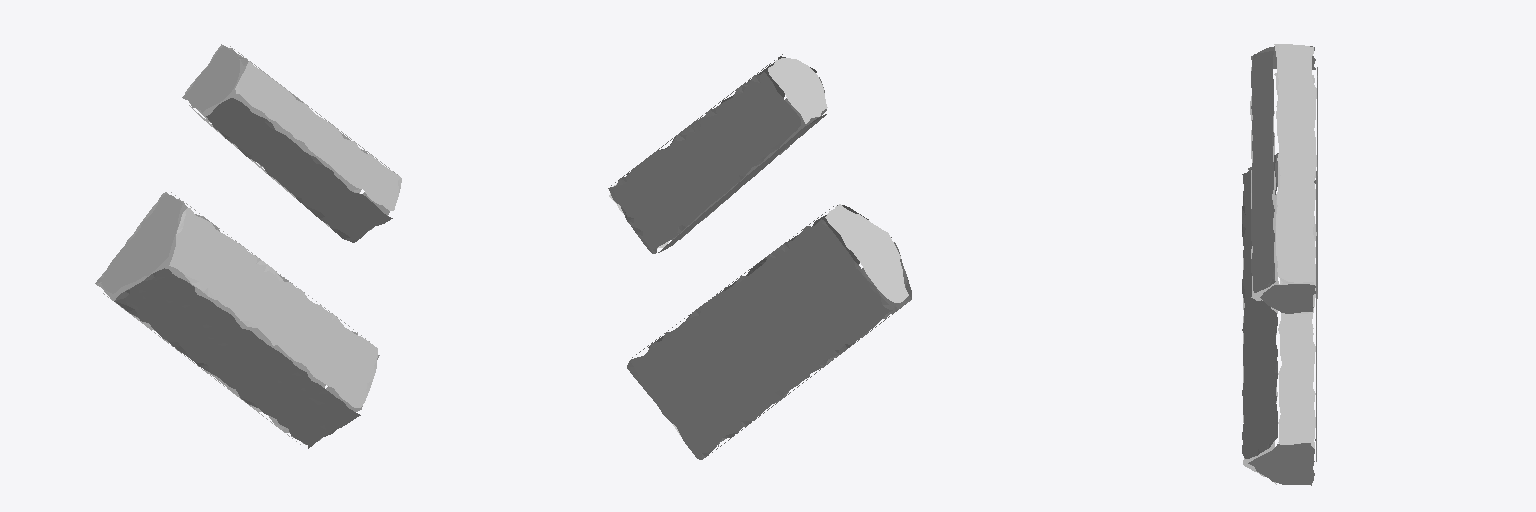
File: initial_mesh.obj
3 renders of one model, left to right at view 1: azimuth 30°, elevation 25°; view 2: azimuth 150°, elevation 25°; view 3: azimuth 270°, elevation 25°, orthographic.
Bounding box in the file's own units: 65.68 × 88.83 × 14.87.